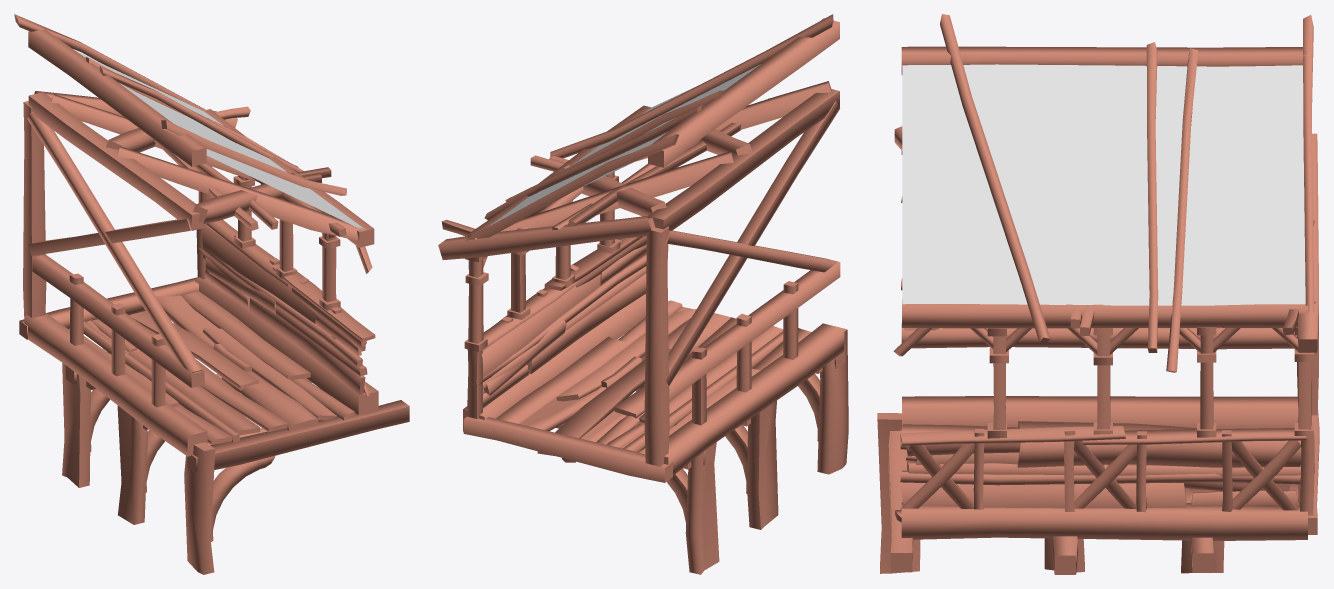
Rendered from wooden_arcade.fbx.
The picture shows the model from 3 angles, left to right: view 1: azimuth 30°, elevation 25°; view 2: azimuth 150°, elevation 25°; view 3: azimuth 270°, elevation 25°; orthographic projection. The views are drawn at different scales.
Visible parts, largest first — view 1: Cube.013; view 2: Cube.013; view 3: Cube.013.
Boxes of the visible parts, box(x1,y1,x2,y2) form: Cube.013: box(14, 14, 409, 574); Cube.013: box(438, 14, 848, 574); Cube.013: box(877, 14, 1319, 574).
Size of the model in its own units: 4.12 by 7.43 by 5.44.
